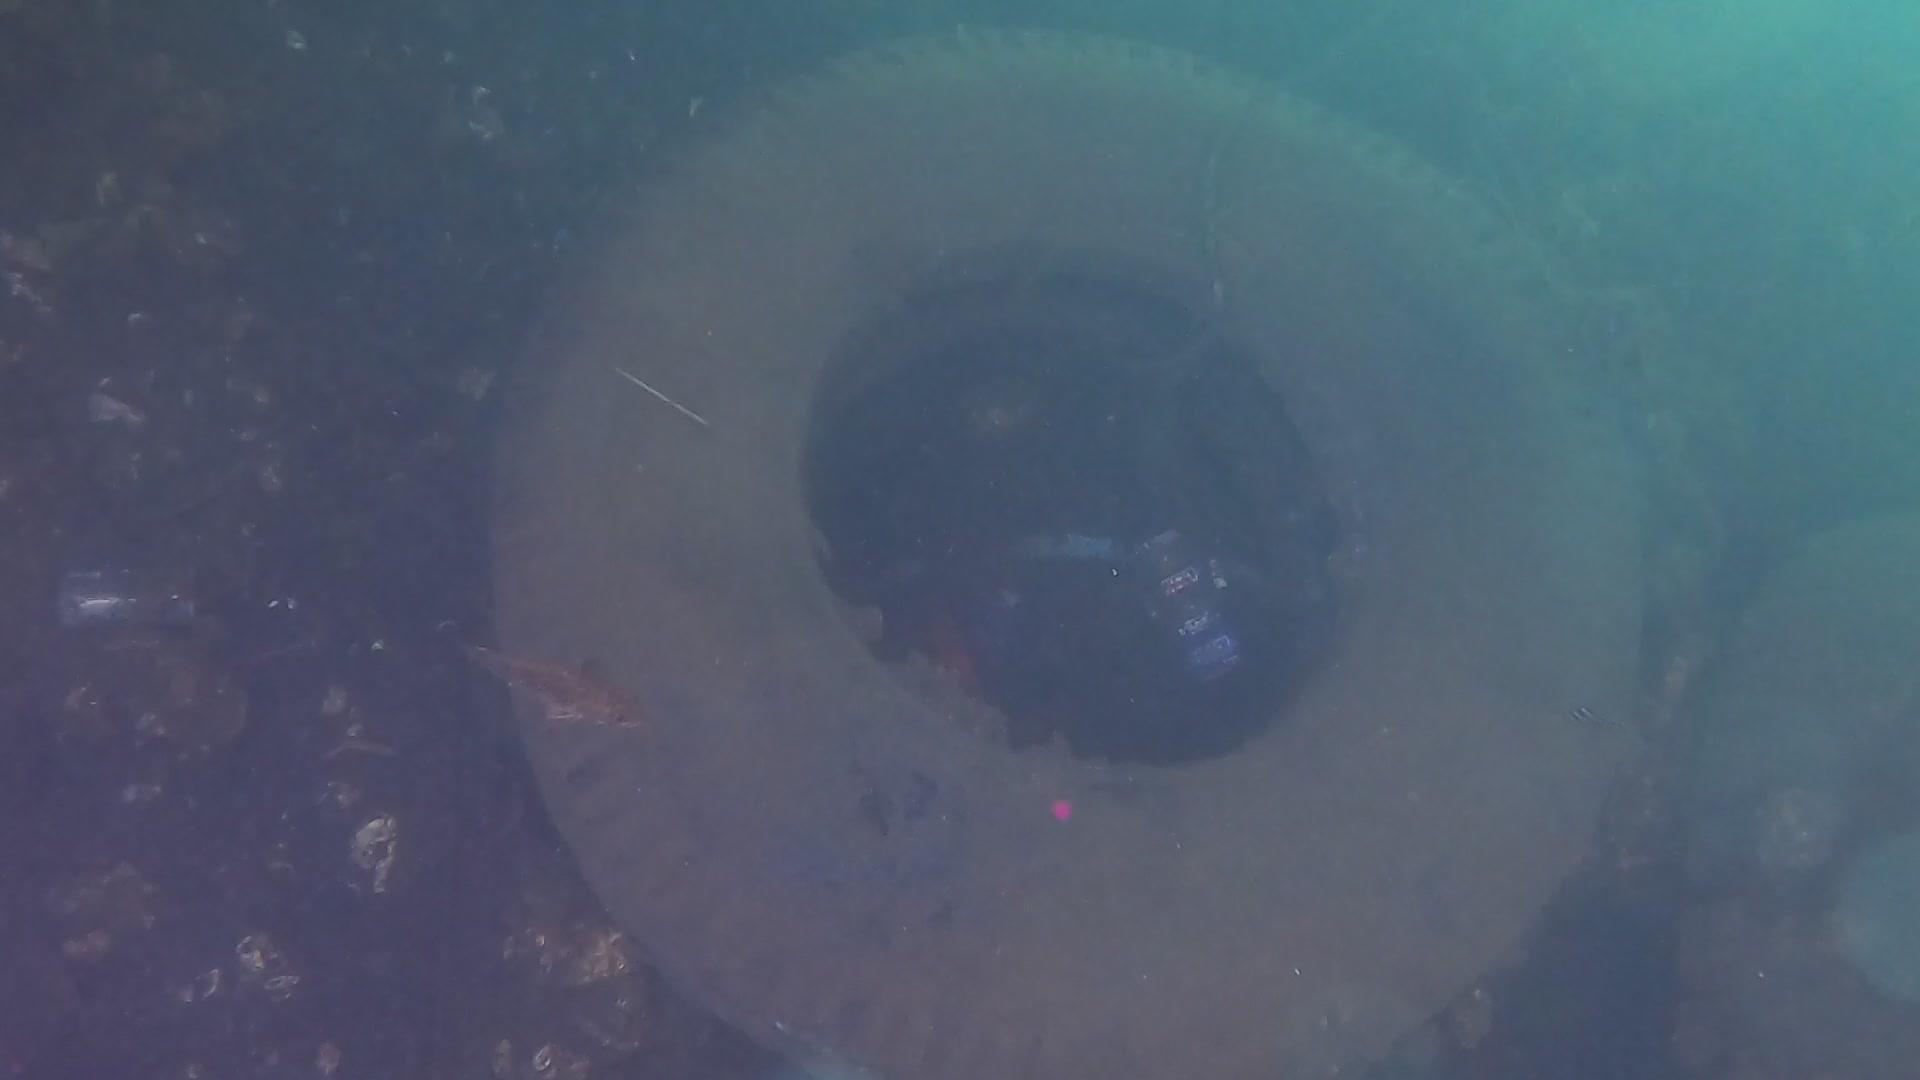tire: (479, 18, 1665, 1080)
